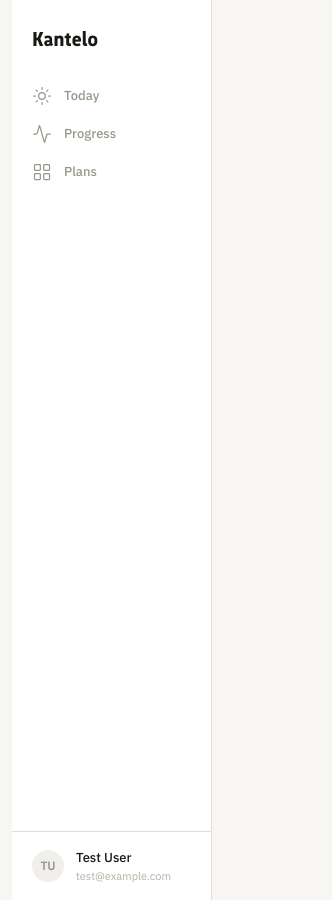
Test: SideNav › exposes Profile + Sign out via the footer menu (not as a primary link)
The width and height of the screenshot is (332, 900).
Expected: the link "Profile" is not shown
Click the button "TU Test User test@example.com".
click(112, 866)  # box [12, 831, 211, 899]
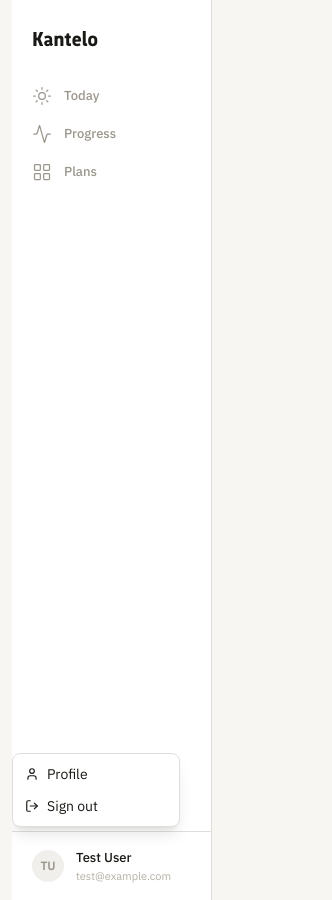
Result: the menu item "Profile" is shown at [25, 765, 88, 783]
Result: the menu item "Sign out" is shown at [25, 797, 98, 815]
